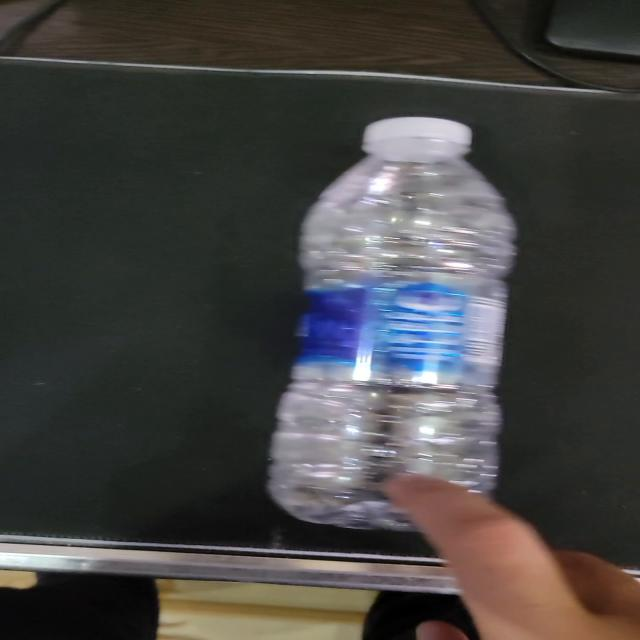Anorganik: (268, 115, 522, 529)
